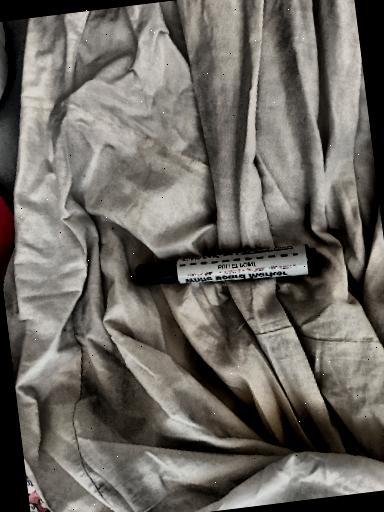marcador negro: (134, 244, 318, 285)
